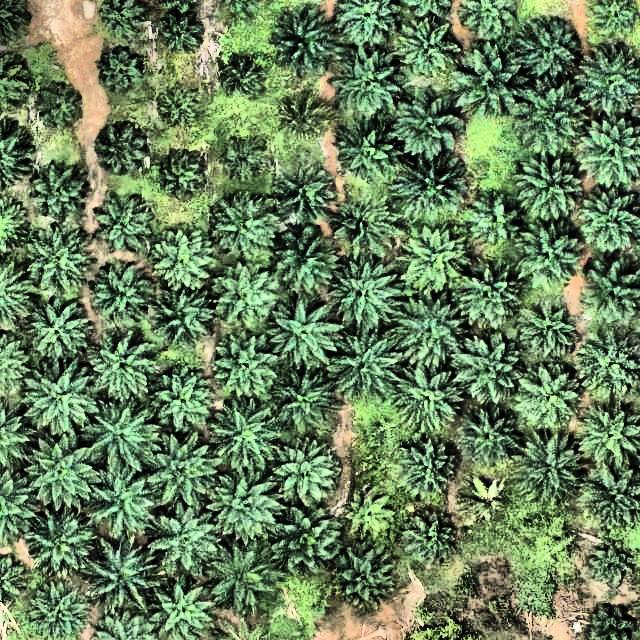Kelapa_Sawit: (262, 4, 340, 82), (263, 295, 341, 373), (329, 42, 407, 120), (388, 86, 466, 164), (449, 44, 527, 122), (513, 81, 591, 159), (262, 434, 340, 512), (265, 497, 343, 575), (202, 396, 280, 474), (200, 464, 278, 542), (198, 537, 276, 615), (138, 361, 216, 439), (141, 429, 219, 507), (141, 498, 219, 576), (83, 329, 161, 407), (81, 397, 159, 475), (80, 460, 158, 538), (80, 537, 158, 615), (23, 356, 101, 434), (21, 431, 99, 509), (21, 502, 99, 580), (24, 223, 94, 294), (517, 155, 587, 226), (22, 294, 92, 364), (210, 189, 280, 259), (211, 261, 281, 331), (269, 227, 339, 297), (335, 118, 405, 188), (326, 190, 396, 260), (329, 260, 399, 330), (396, 151, 466, 221), (400, 225, 470, 295), (395, 294, 465, 364), (450, 260, 520, 330), (516, 220, 586, 290), (512, 294, 582, 364), (515, 363, 585, 433), (515, 434, 585, 504), (453, 332, 523, 402), (392, 360, 462, 430), (390, 431, 460, 501), (326, 330, 396, 400), (266, 364, 336, 434), (210, 334, 280, 404), (397, 506, 459, 569), (337, 481, 399, 544), (29, 162, 91, 224), (92, 193, 154, 255), (94, 265, 156, 327), (150, 231, 212, 293), (150, 286, 212, 348), (397, 17, 459, 79), (516, 20, 578, 82), (332, 543, 394, 605), (458, 475, 513, 530), (96, 122, 151, 177), (155, 149, 210, 204), (469, 193, 524, 248), (463, 413, 518, 468), (278, 163, 332, 218), (39, 85, 85, 132), (282, 96, 328, 142), (99, 49, 145, 95), (154, 14, 200, 60), (217, 56, 263, 102), (221, 137, 267, 183), (587, 542, 633, 588), (158, 89, 196, 128)
